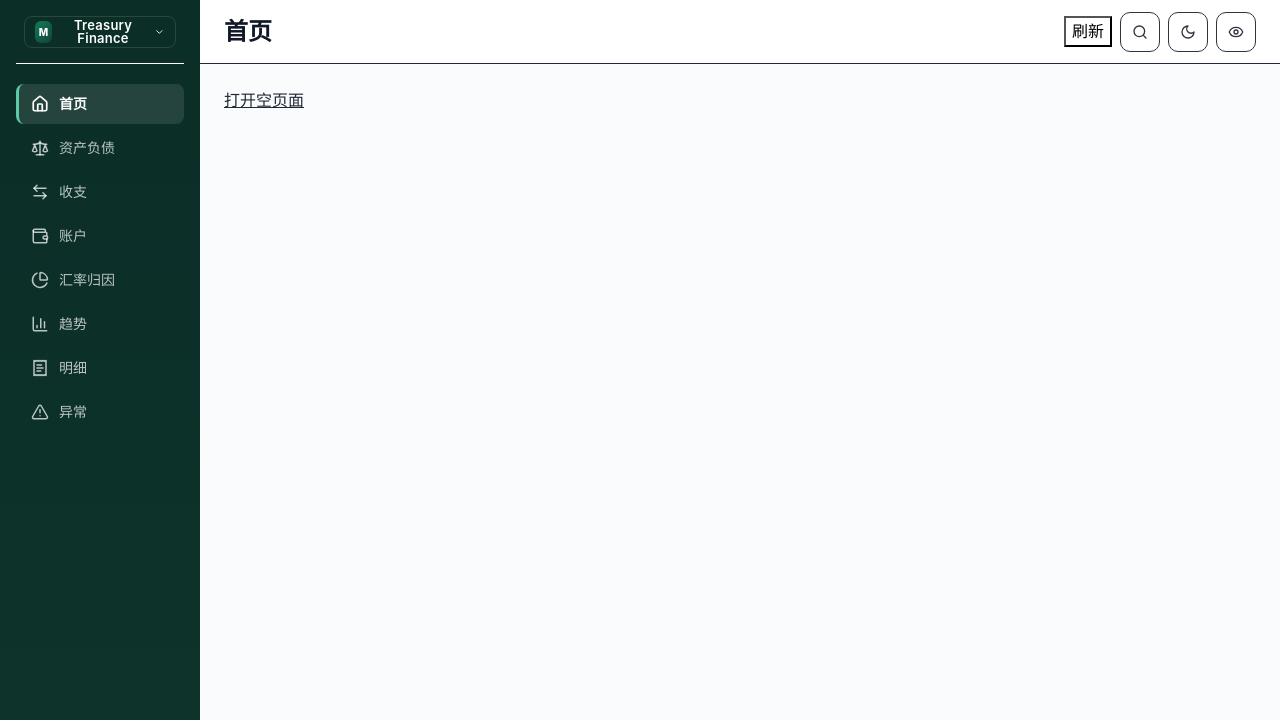
Test: AppHeader › 页面卸载时清空旧标题和操作
The image size is (1280, 720).
Click the link "打开空页面" at coordinates (264, 100), box [224,90,304,110]
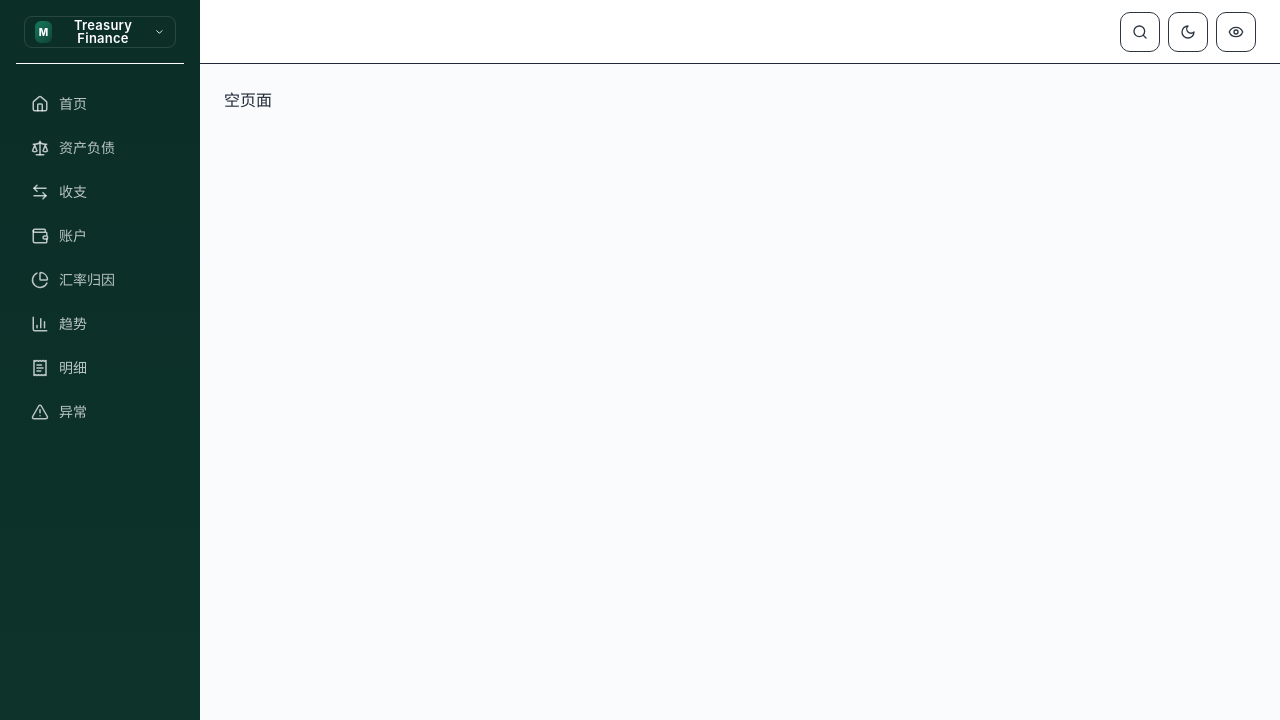
Expected: the text "空页面" is shown, [224,90,272,110]
Now the button "刷新" is gone
